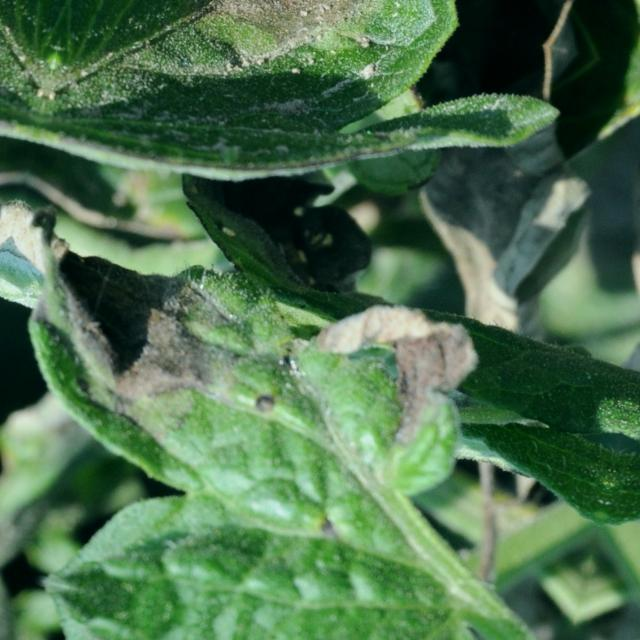Tomato leaf late blight: (0, 190, 559, 640), (32, 0, 504, 253)
